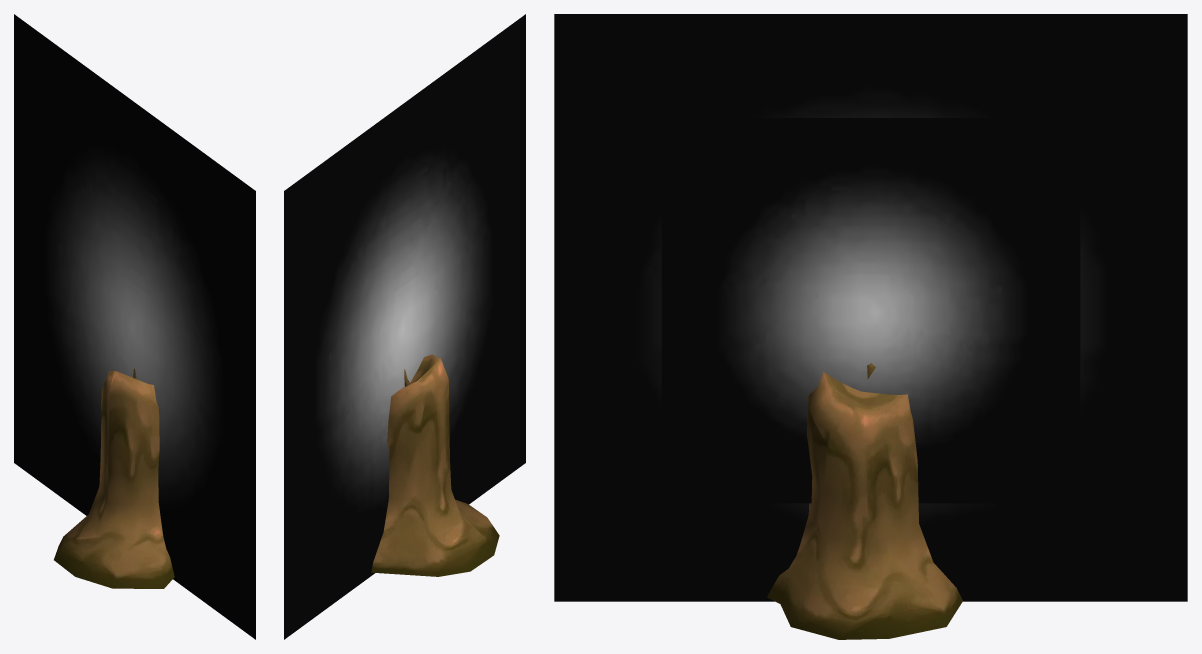
3 views of the same model, side by side, from view 1: azimuth 30°, elevation 25°; view 2: azimuth 150°, elevation 25°; view 3: azimuth 270°, elevation 25° (orthographic). The views are drawn at different scales.
Bounding box in the file's own units: 0.5207 × 1.55 × 1.51.
Materials: 3 (3 with a texture image).
